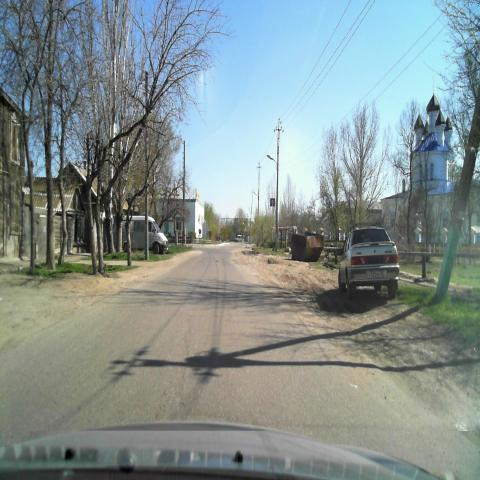5_6: (270, 197, 275, 207)
